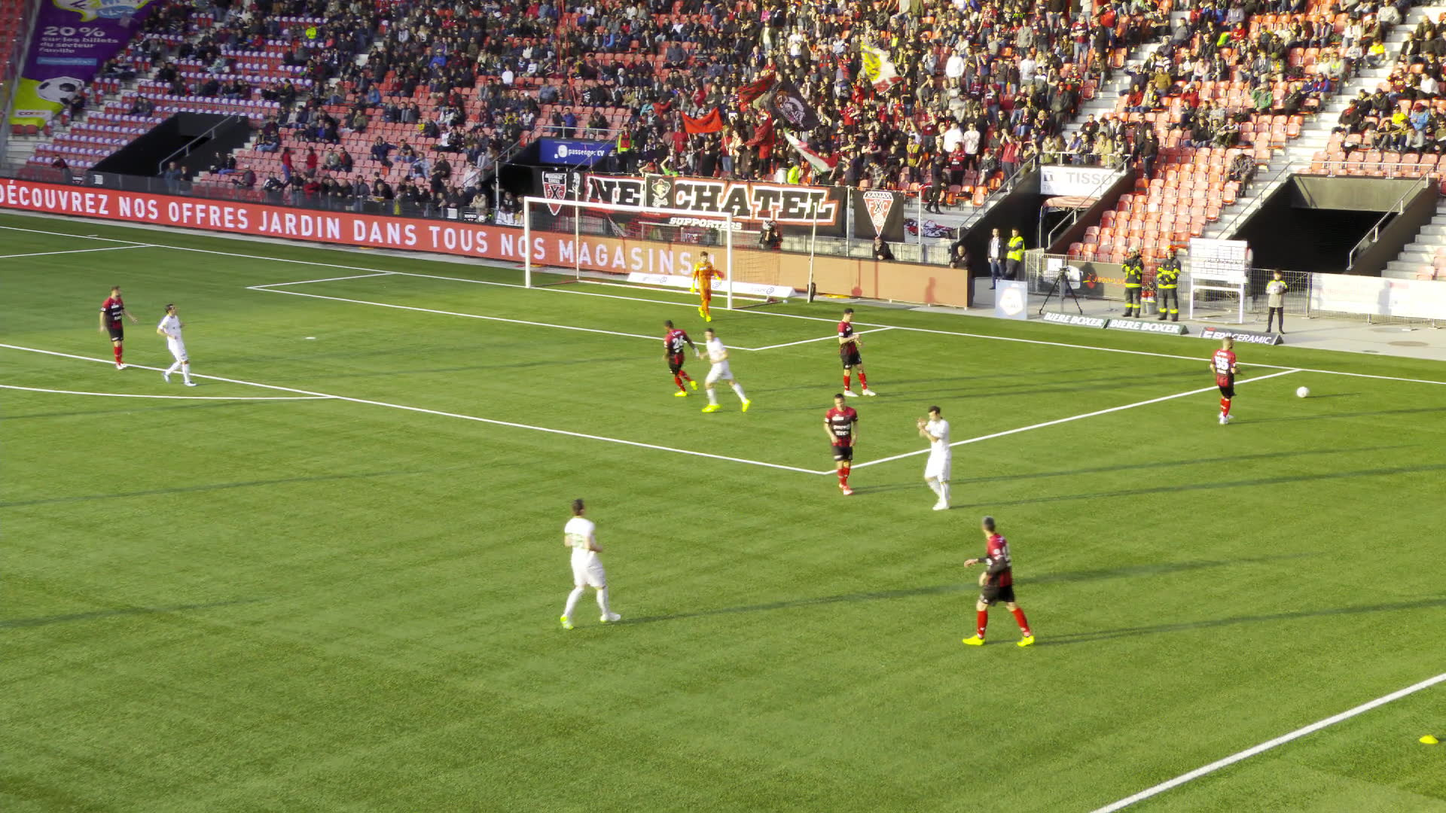ball: (1296, 386, 1309, 397)
player: (969, 515, 1034, 644), (565, 497, 624, 626), (703, 327, 755, 413), (917, 405, 958, 509), (825, 393, 862, 493), (660, 319, 705, 397), (835, 309, 872, 396), (99, 285, 136, 368), (1207, 337, 1242, 424), (158, 302, 193, 385), (691, 250, 721, 320)
